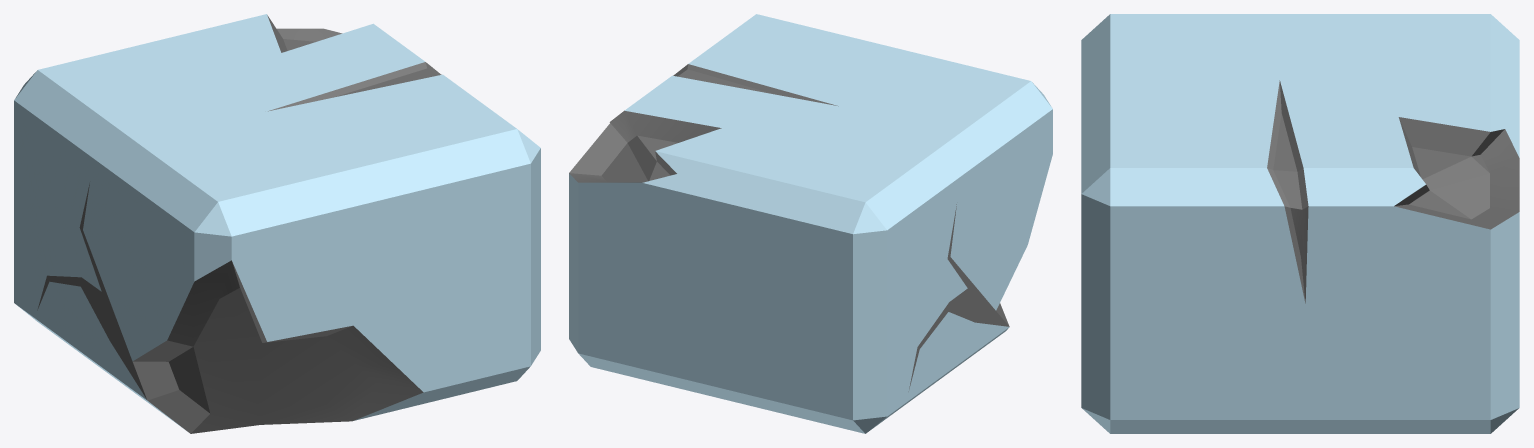
Rendered from StoneBlock3.fbx.
3 views of the same model, side by side, from view 1: azimuth 30°, elevation 25°; view 2: azimuth 150°, elevation 25°; view 3: azimuth 270°, elevation 25° (orthographic). The views are drawn at different scales.
Parts seen in each view (by area): view 1: StoneBlock3_LOD0; view 2: StoneBlock3_LOD0; view 3: StoneBlock3_LOD0.
Part boxes in pixels (box(x1,y1,x2,y2)): StoneBlock3_LOD0: box(14, 14, 540, 433); StoneBlock3_LOD0: box(569, 14, 1052, 433); StoneBlock3_LOD0: box(1081, 14, 1519, 433).
Size of what is drawn, in the model's own units: 590 by 410 by 613.
